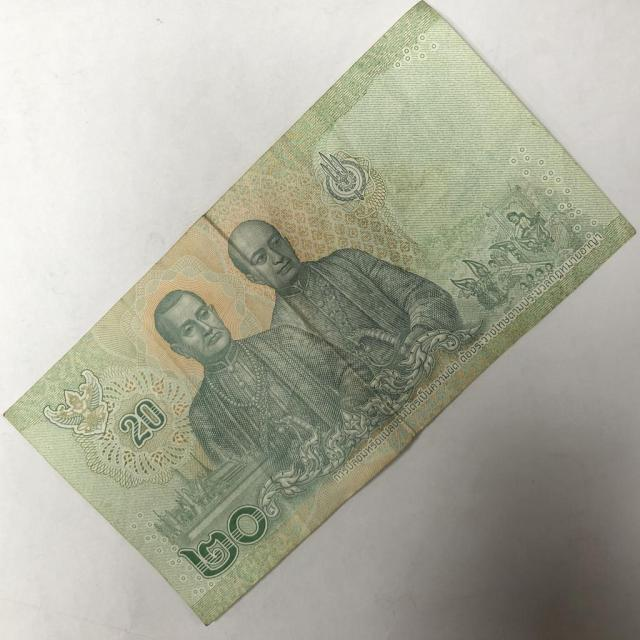THAI20: (4, 1, 633, 627)
